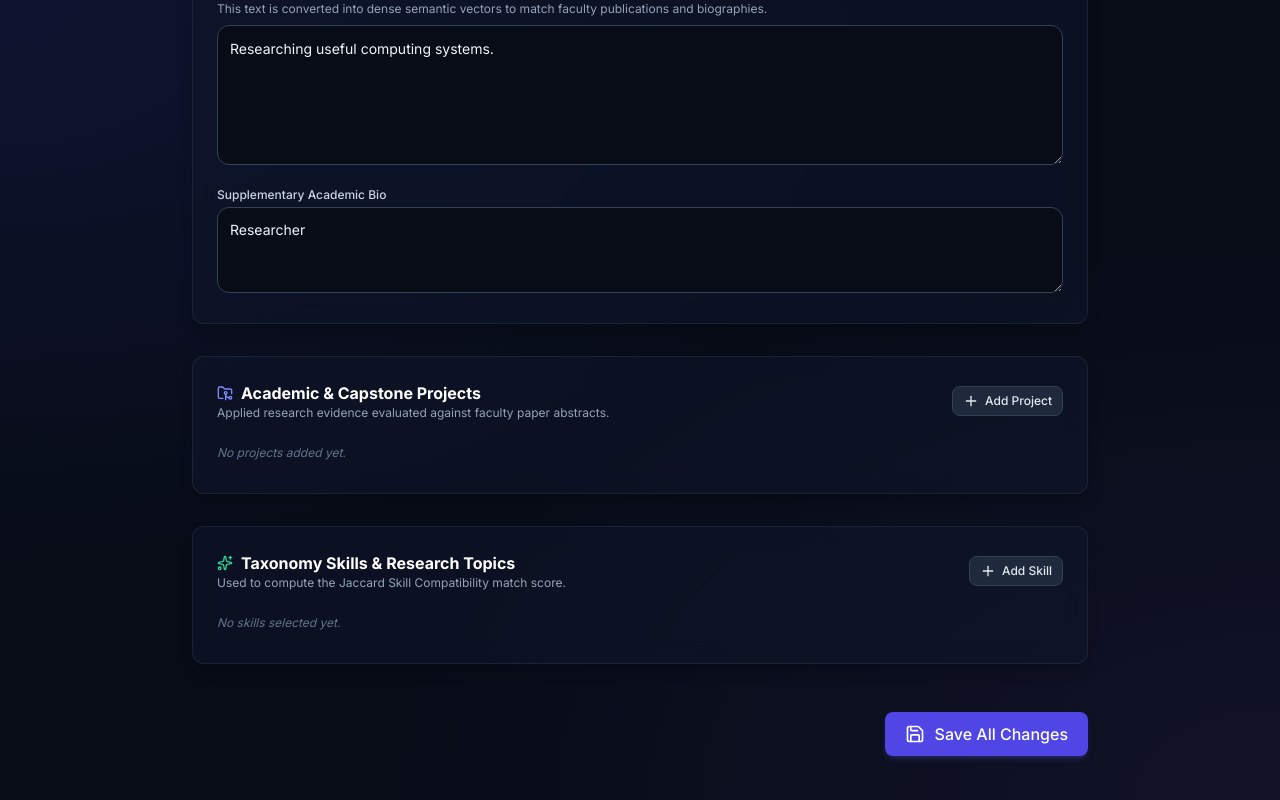
Phase 5.3.2 frontend regressions › gives every profile editor control an accessible name, including modal fields
(page scrolled)
Expected: the text box labelled "Statement of Purpose & Research Goals" is shown, [217, 25, 1063, 165]
Expected: the text box labelled "Supplementary Academic Bio" is shown, [217, 207, 1063, 293]
Step 1. Click the button "Add Project" → (1008, 401), box [952, 386, 1063, 416]
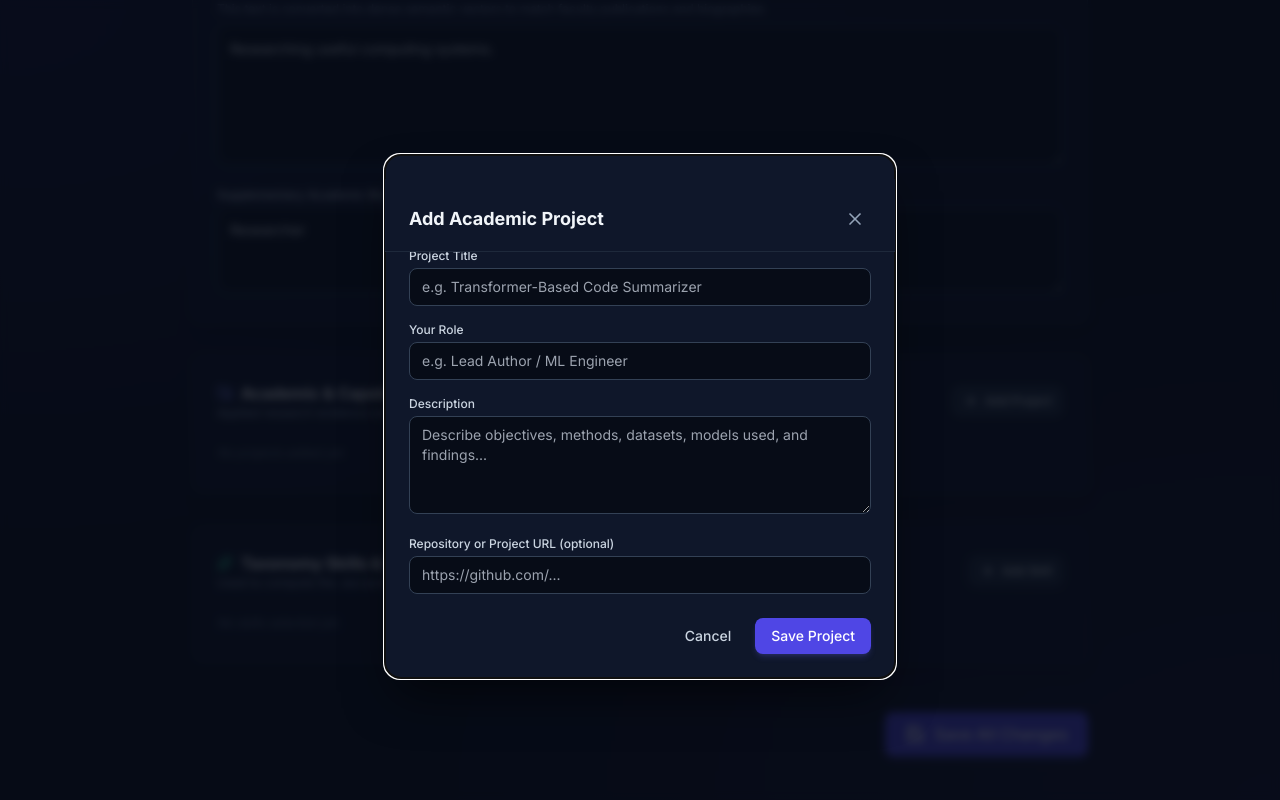
Result: the field labelled "Project Title" is shown at [409, 268, 871, 306]
Result: the field labelled "Your Role" is shown at [409, 342, 871, 380]
Result: the text box labelled "Description" is shown at [409, 416, 871, 514]
Step 2. Click the button "Cancel" → (708, 636), box [669, 618, 747, 654]
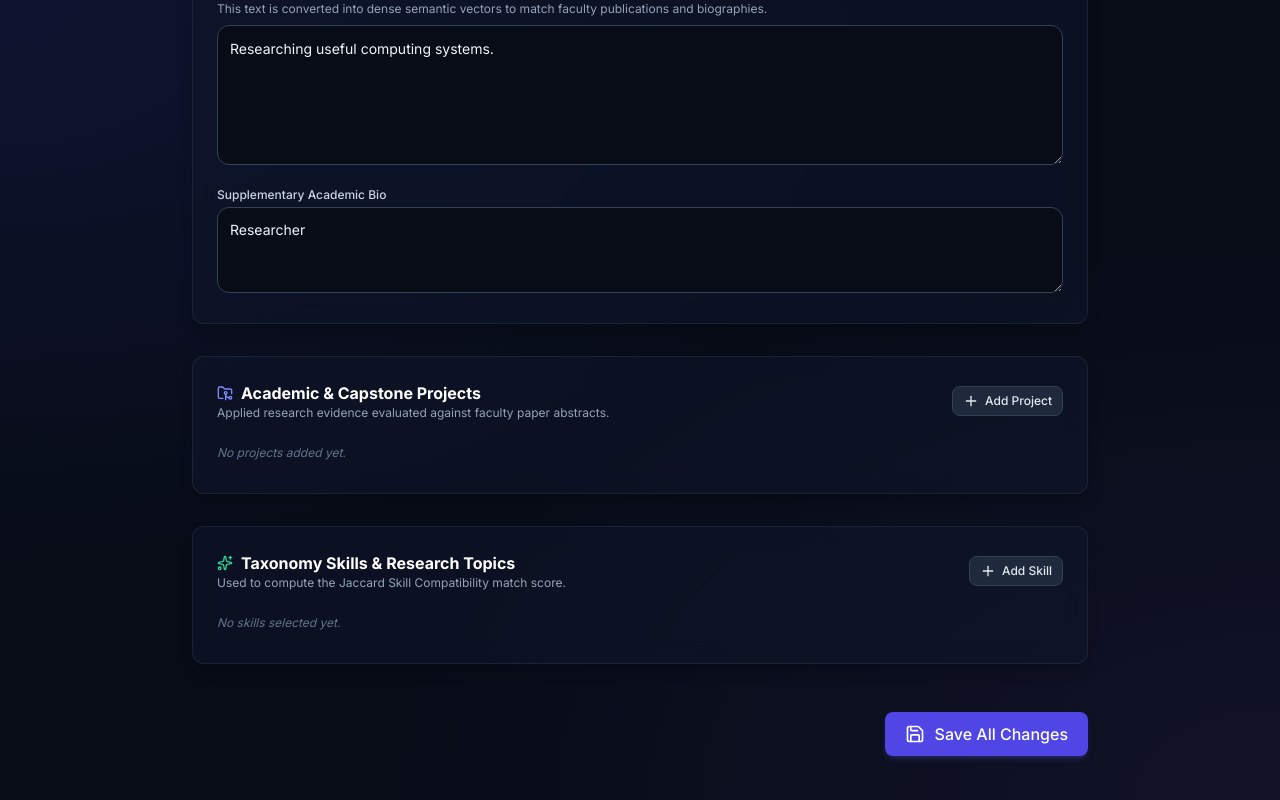
Step 3. Click the button "Add Skill" → (1016, 571), box [969, 556, 1063, 586]
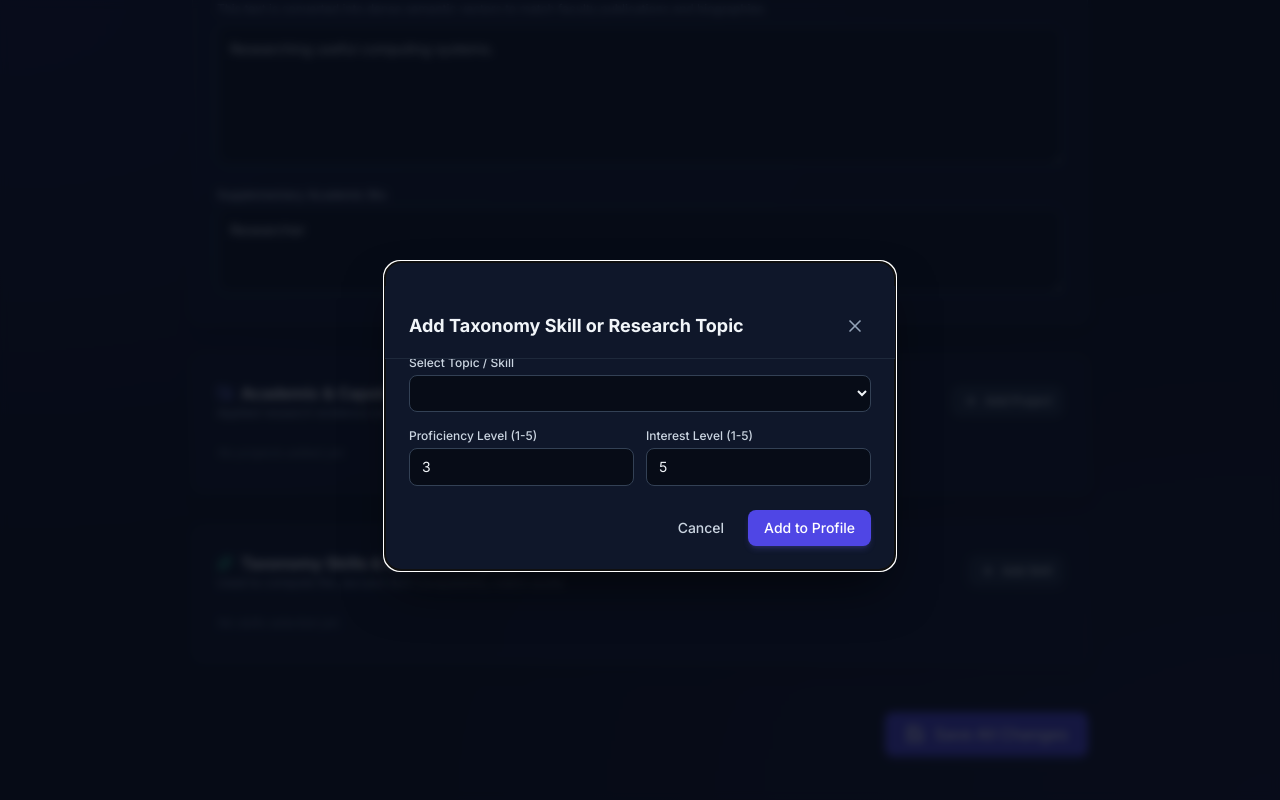
Result: the dropdown labelled "Select Topic / Skill" is shown at [409, 375, 871, 412]
Result: the number field labelled "Proficiency Level (1-5)" is shown at [409, 448, 634, 486]
Result: the number field labelled "Interest Level (1-5)" is shown at [646, 448, 871, 486]
